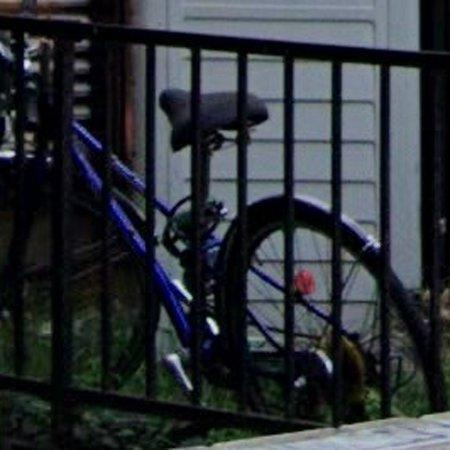bicycles: (151, 90, 444, 423), (70, 120, 148, 267)
